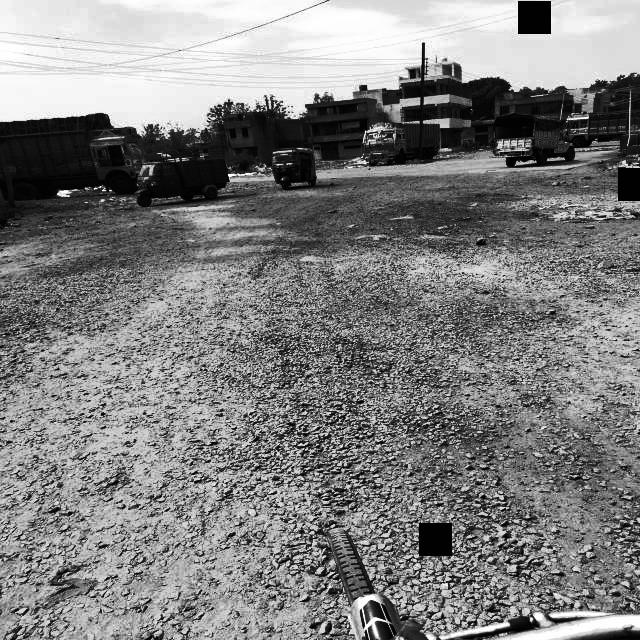Auto-Rickshaw: (269, 148, 325, 194)
